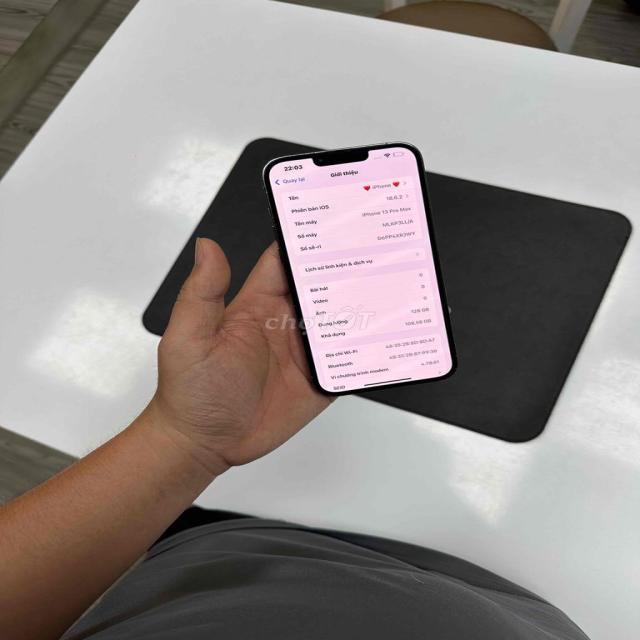gen_12_13: (260, 139, 465, 398)
